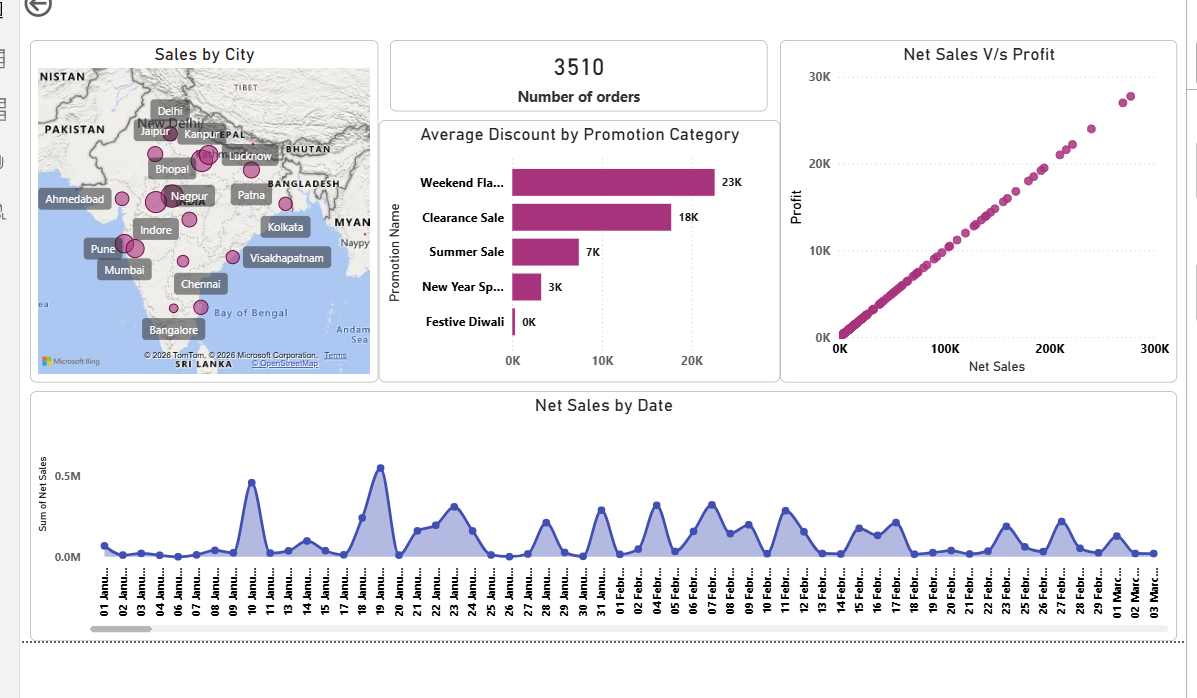

The dashboard page shown, as its layout file describes it:
{"tool":"powerbi","page":{"name":"Overview","canvas":[1280,720],"ordinal":0},"visuals":[{"type":"scatterChart","title":"Net Sales V/s Profit","fields":{"Y":["Fact Table.Profit"],"X":["Fact Table.Net Sales  "]},"box":[833.9,59.9,436.2,376.3],"z":0},{"type":"barChart","title":"Average Discount by Promotion Category","fields":{"Y":["Avg(Fact Table.Discount)"],"Category":["Dim Promotion.Promotion Name"]},"box":[393.4,148.3,440.4,287.9],"z":1000},{"type":"map","title":"Sales by City","fields":{"Category":["Dim Customers.City"],"Size":["Sum(Fact Table.Net Sales  )"]},"box":[11.4,59.9,382,376.3],"z":2000},{"type":"card","fields":{"Values":["Count(Fact Table.Order ID)"]},"box":[406.2,59.9,414.8,78.4],"z":3000},{"type":"actionButton","box":[0,0,100,40],"z":4000},{"type":"lineChart","title":"Net Sales by Date","fields":{"Y":["Sum(Fact Table.Net Sales  )"],"Category":["Fact Table.Date (dd/mm/yyyy)"]},"box":[11.4,446.1,1258.9,274.2],"z":5000}]}

Visuals, with their boxes on the page's 1280x720 design canvas (x1, y1, x2, y2). These are canvas units, not pixel positions in the 1197x698 screenshot, which may show the page scaled, cropped or inside an application window:
"Net Sales V/s Profit" scatterChart: (x1=834, y1=60, x2=1270, y2=436)
"Average Discount by Promotion Category" barChart: (x1=393, y1=148, x2=834, y2=436)
"Sales by City" map: (x1=11, y1=60, x2=393, y2=436)
card - Count(Fact Table.Order ID): (x1=406, y1=60, x2=821, y2=138)
actionButton: (x1=0, y1=0, x2=100, y2=40)
"Net Sales by Date" lineChart: (x1=11, y1=446, x2=1270, y2=720)
